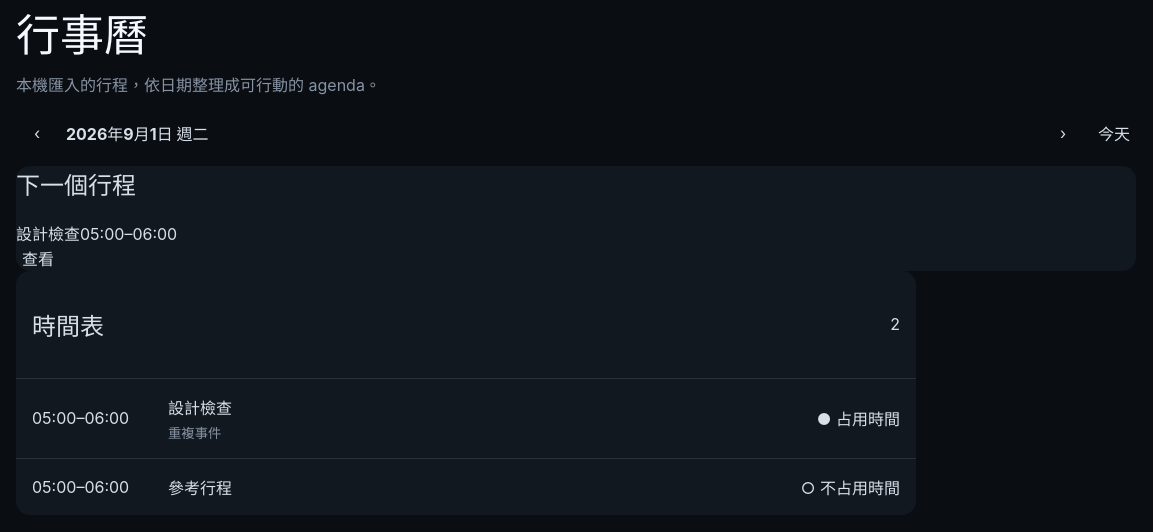
CalendarWorkspace › does not show next-event content when browsing a past date
This screenshot has width=1153, height=532.
Check: the heading "時間表" is shown, box x1=32 y1=307 x2=104 y2=342
Step 1. Click the button named "前一天" → (37, 133), box x1=16 y1=122 x2=58 y2=144
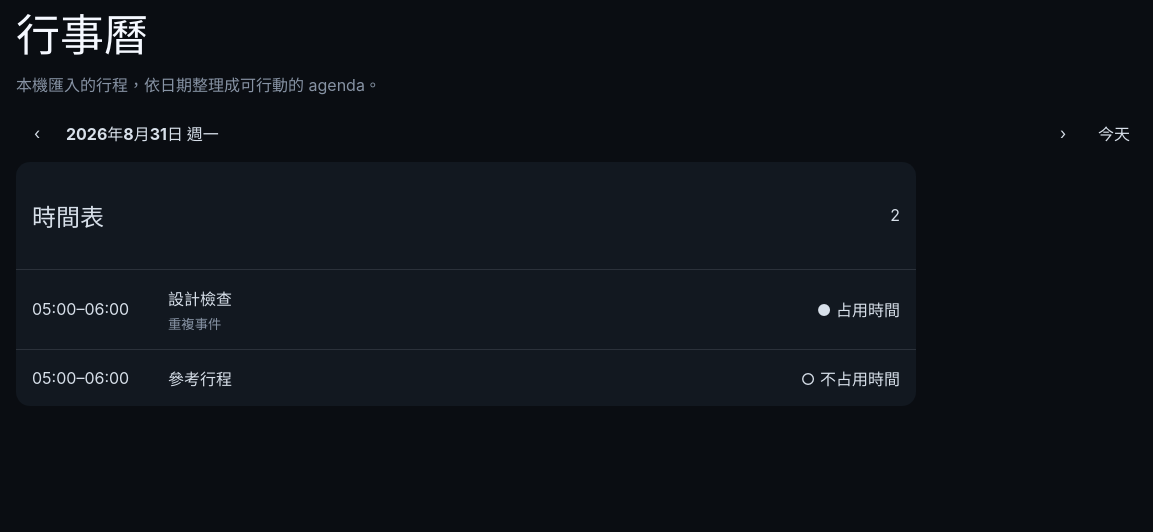
Check: the heading "下一個行程" is gone
